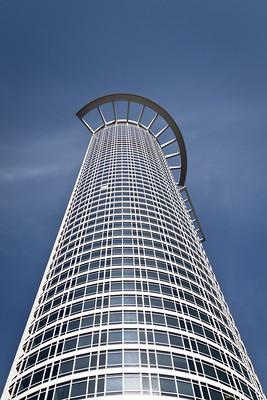building: (4, 88, 264, 400)
